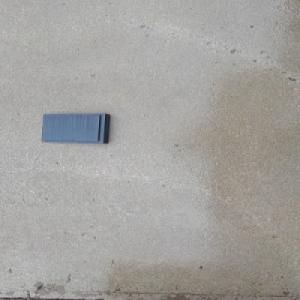PlasticPart: (40, 112, 111, 144)
